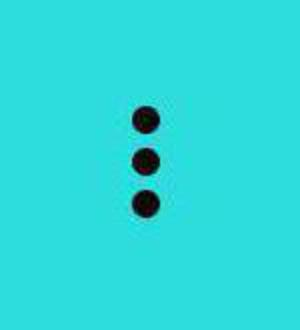ImgButton: (1, 1, 299, 329)
